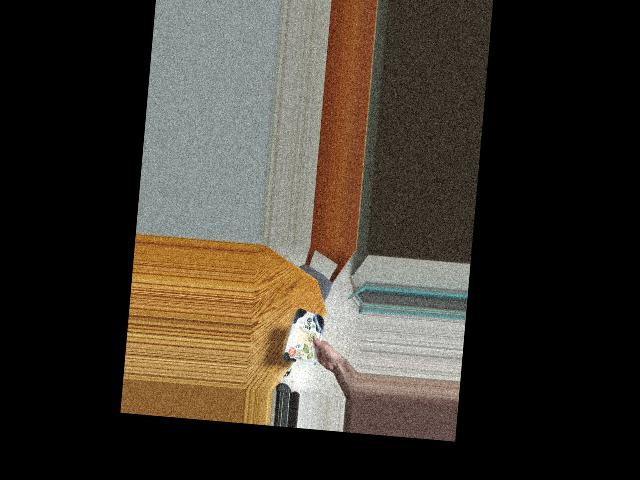cheese: (282, 308, 327, 364)
